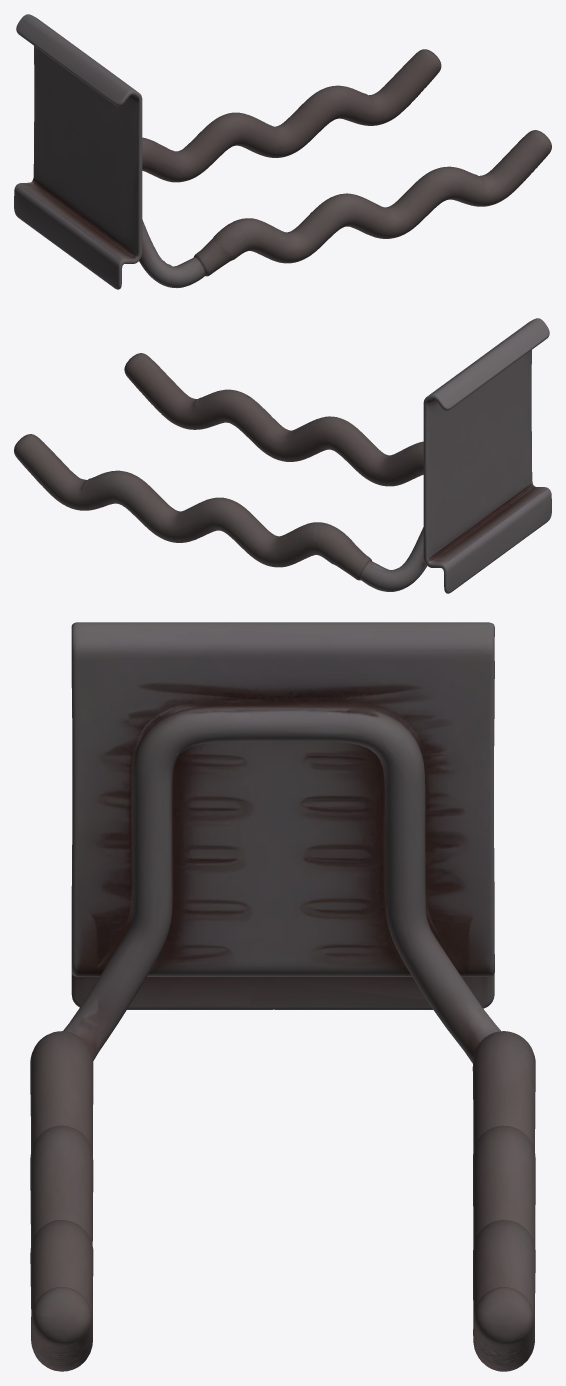
Rendered from Maxxclick-attachment-2.glb.
3 renders of one model, top to bottom at view 1: azimuth 30°, elevation 25°; view 2: azimuth 150°, elevation 25°; view 3: azimuth 270°, elevation 25°, orthographic. The views are drawn at different scales.
Parts seen in each view (by area): view 1: node_0; view 2: node_0; view 3: node_0.
Boxes of the visible parts, x1,y1,x2,y2 form: node_0: (14, 14, 551, 289); node_0: (14, 318, 551, 593); node_0: (30, 622, 535, 1371).
Size of the model in its own units: 1.03 by 0.4756 by 0.526.
1 material, 1 textured.
